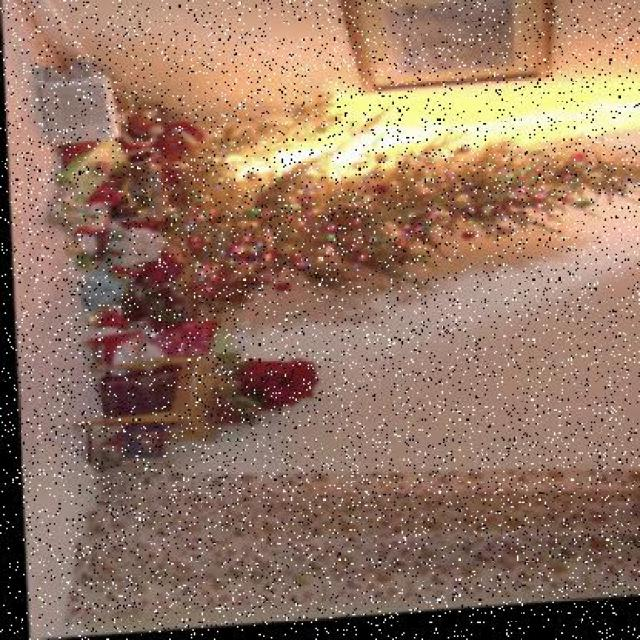fire: (214, 84, 640, 204)
